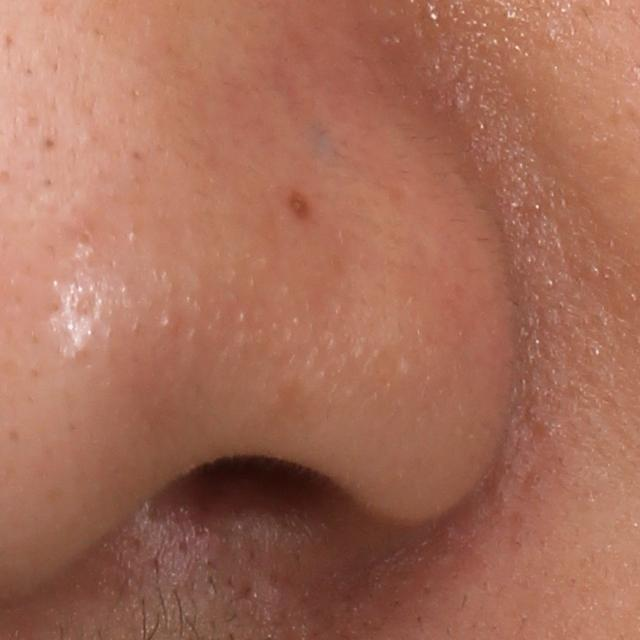comedo: (71, 228, 93, 250)
nevus: (278, 179, 312, 221)
